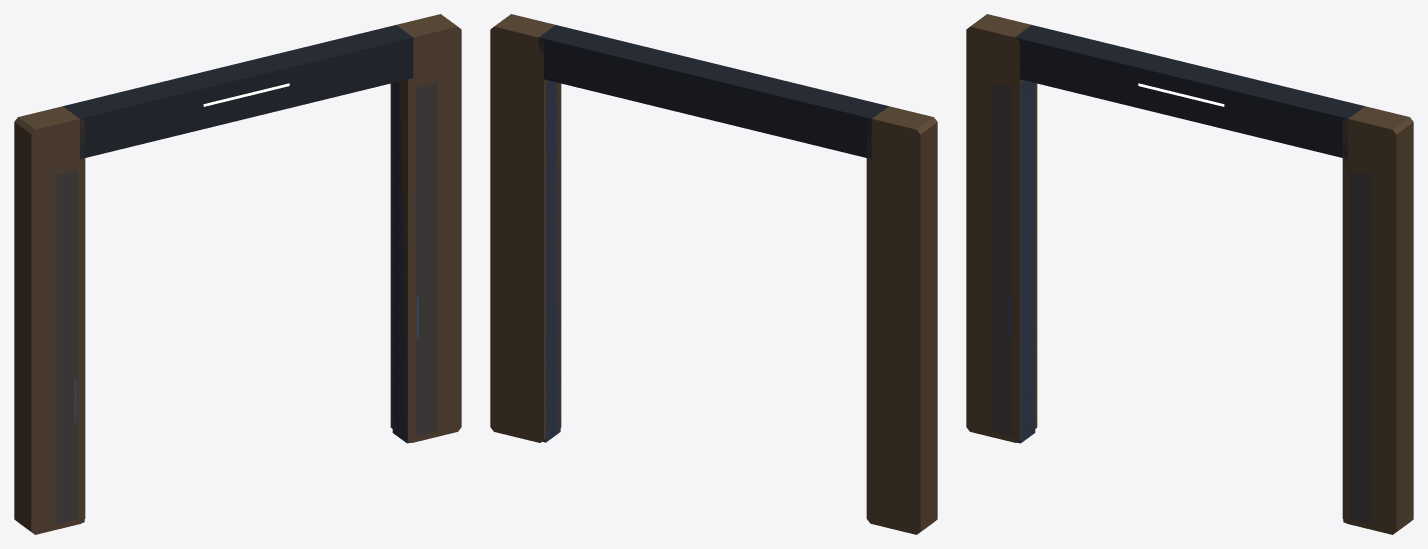
File: res_interior_door_frame.glb
The picture shows the model from 3 angles, left to right: view 1: azimuth 30°, elevation 25°; view 2: azimuth 150°, elevation 25°; view 3: azimuth 330°, elevation 25°; orthographic projection.
Visible parts, largest first — view 1: pocket_jamb, head_track, retracted_glass_leaf, black_reveal; view 2: pocket_jamb, head_track, black_reveal; view 3: pocket_jamb, head_track, retracted_glass_leaf, black_reveal.
Part boxes in pixels (x1,y1,x2,y2): pocket_jamb: [14, 14, 461, 534]; head_track: [63, 25, 413, 158]; retracted_glass_leaf: [56, 83, 436, 523]; black_reveal: [82, 81, 410, 522]; pocket_jamb: [490, 14, 937, 534]; head_track: [538, 25, 888, 159]; black_reveal: [542, 80, 560, 442]; pocket_jamb: [966, 14, 1413, 534]; head_track: [1014, 25, 1364, 159]; retracted_glass_leaf: [991, 83, 1371, 523]; black_reveal: [1017, 80, 1345, 522].
Size of the model in its own units: 4 by 3.6 by 0.28.
